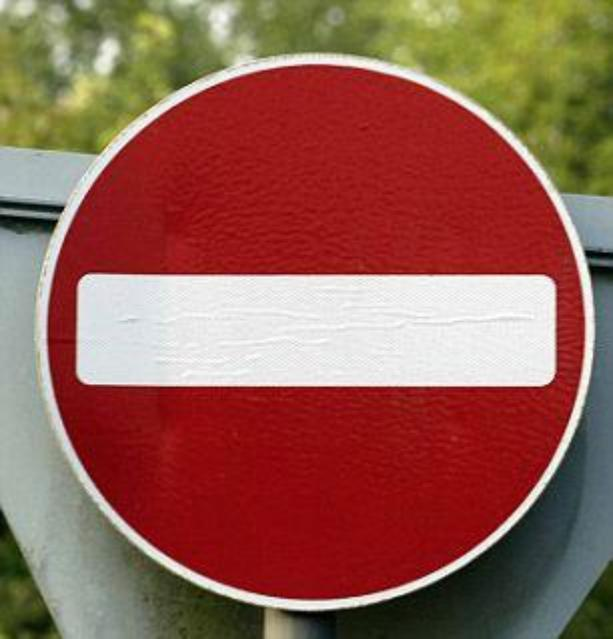B2: (30, 48, 598, 616)
